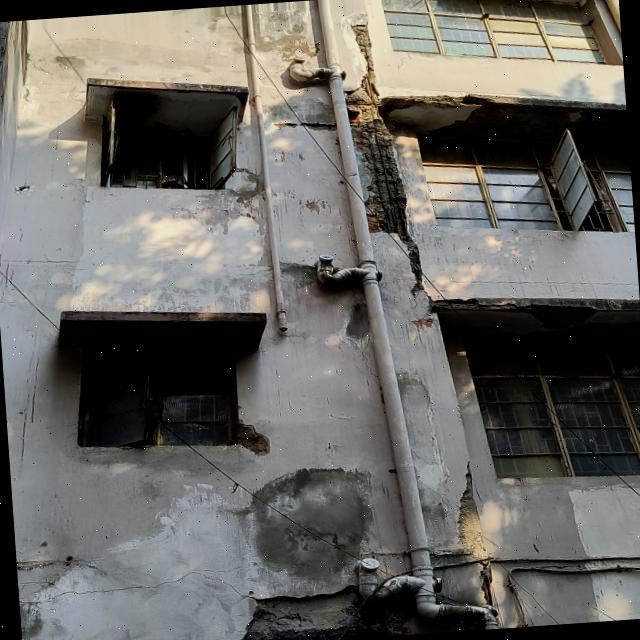crack: (18, 564, 261, 611)
peeling: (232, 406, 276, 455)
spalling: (346, 24, 422, 292), (248, 447, 394, 582), (242, 585, 483, 640), (278, 245, 371, 348), (431, 297, 640, 333), (378, 94, 519, 130)
stain_mould: (83, 75, 264, 122), (522, 96, 627, 146)
